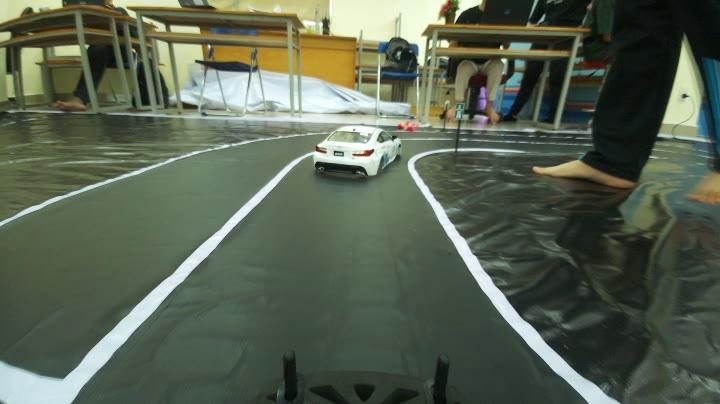car: (311, 122, 401, 181)
